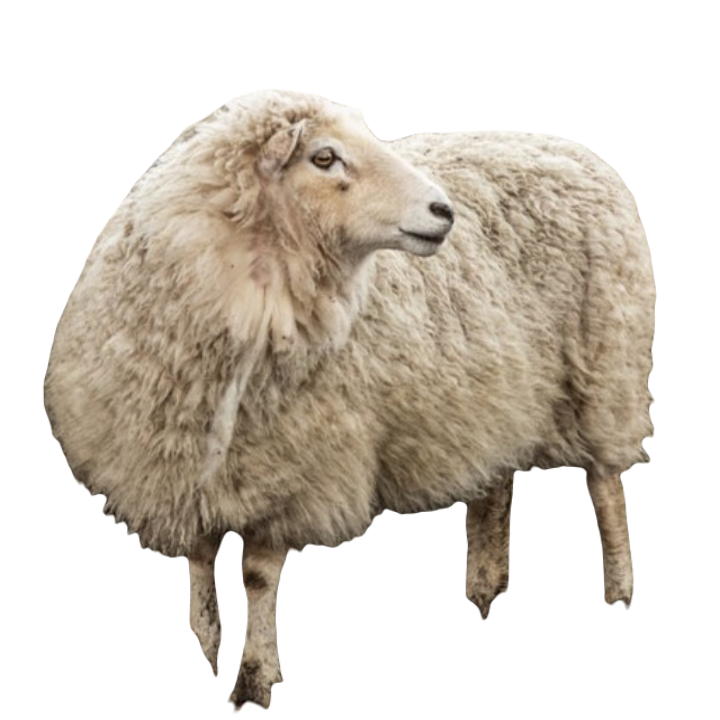Sheep: (36, 84, 663, 715)
